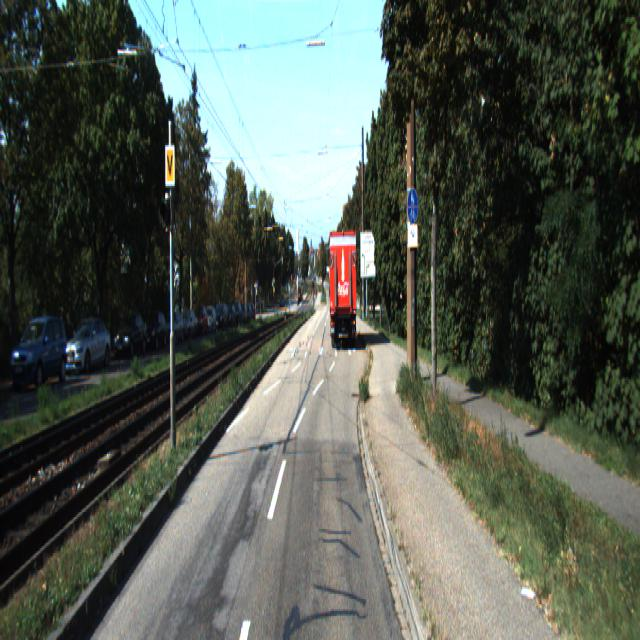Car: (11, 314, 72, 393), (327, 231, 358, 354), (62, 315, 112, 374), (112, 311, 148, 361), (143, 308, 167, 351), (161, 310, 184, 346), (192, 305, 208, 337)
